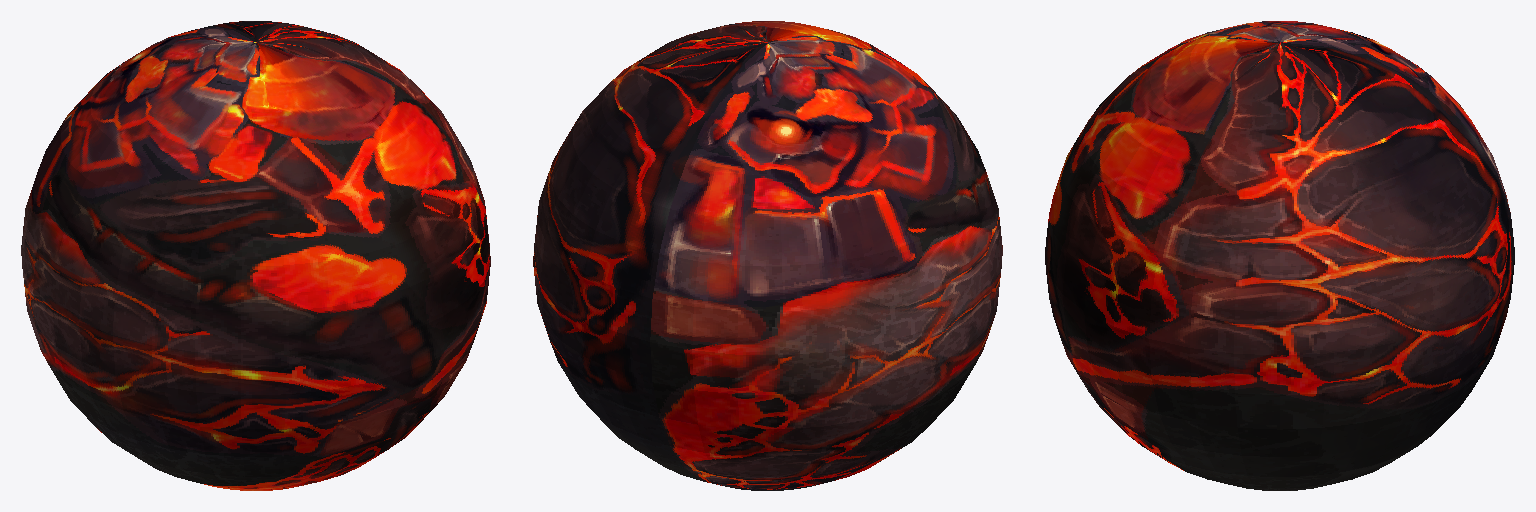
3 renders of one model, left to right at view 1: azimuth 30°, elevation 25°; view 2: azimuth 150°, elevation 25°; view 3: azimuth 270°, elevation 25°, orthographic.
Parts seen in each view (by area): view 1: Sphere001; view 2: Sphere001; view 3: Sphere001.
Part boxes in pixels (bbox=[...]): Sphere001: bbox=[21, 21, 490, 490]; Sphere001: bbox=[533, 21, 1002, 490]; Sphere001: bbox=[1045, 21, 1514, 490].
Size of the model in its own units: 54.18 by 54.18 by 54.18.
Materials: 1 (1 with a texture image).